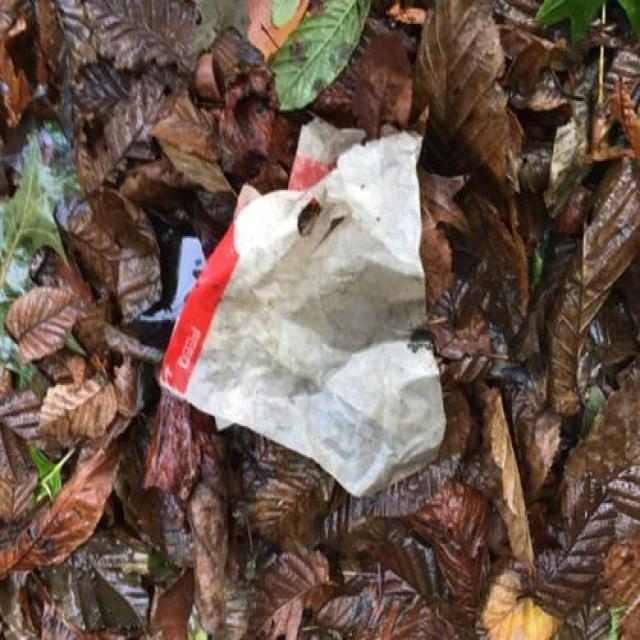Paper: (156, 114, 448, 504)
